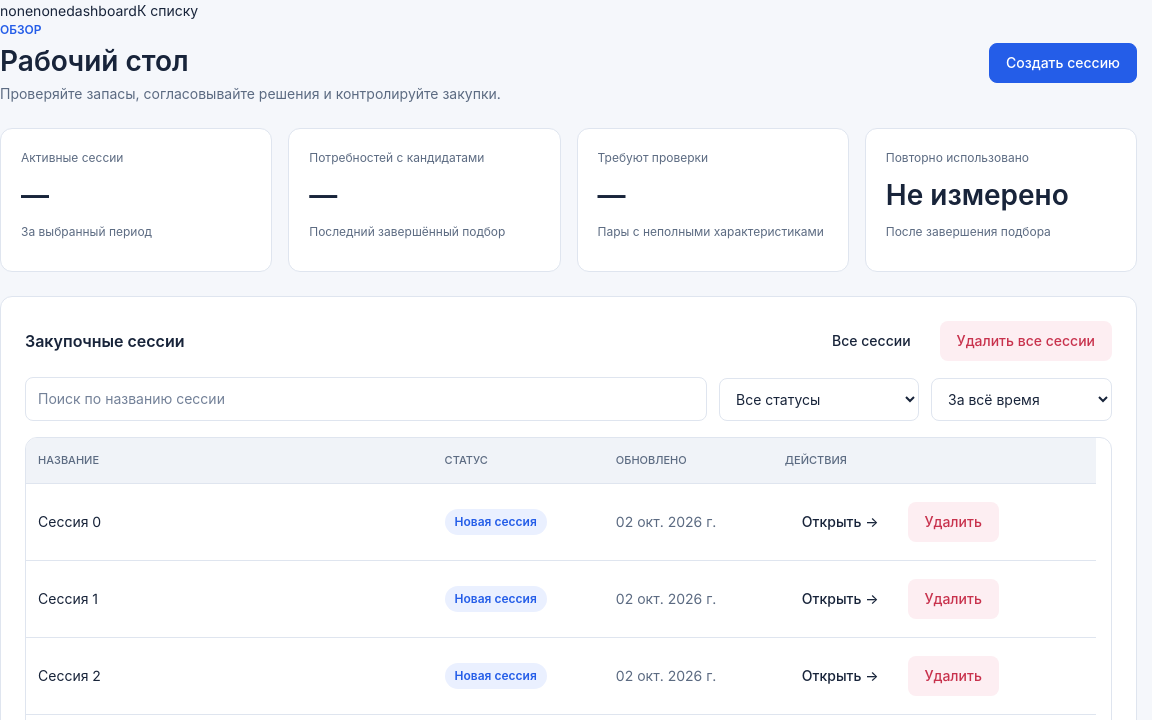
Test: session deletion › shows active-job errors in the dialog and leaves rows intact
What coordinates should you click on to do the following:
click the button with aria-label "Удалить сессию «Сессия 0»"
I would click on:
 (953, 522)
Its box is [908,502,999,542].
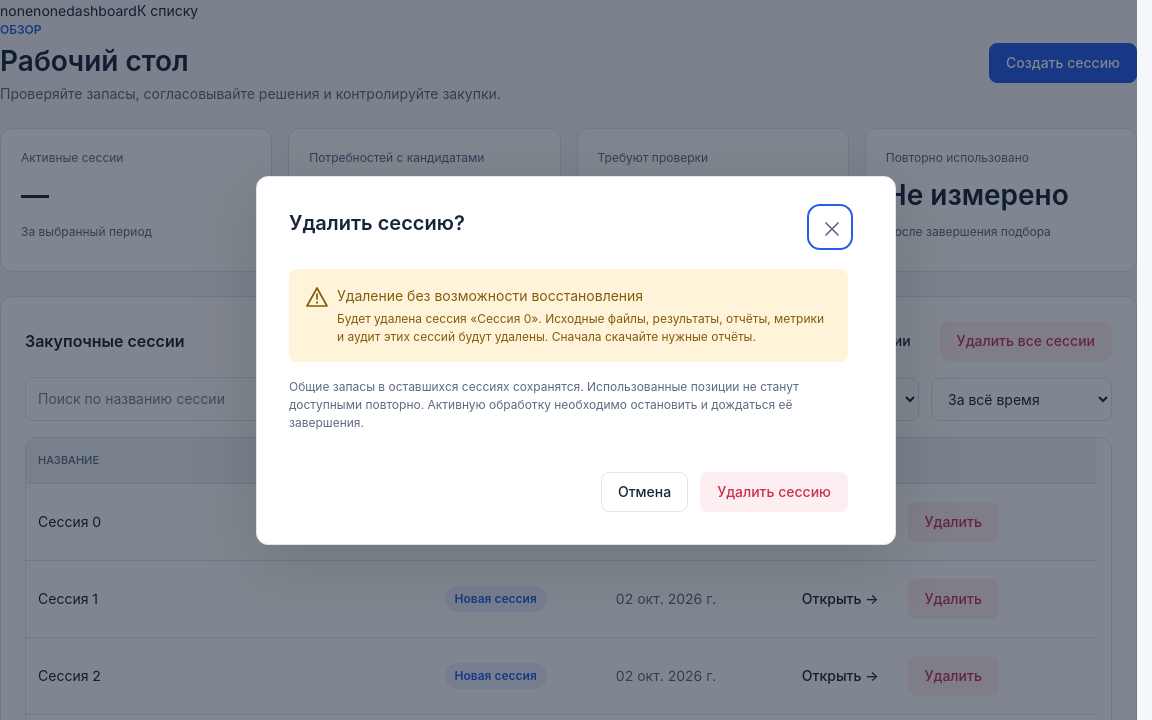
What coordinates should you click on to do the following:
click the button "Удалить сессию"
I would click on:
 (774, 492)
Its box is [700,472,848,512].
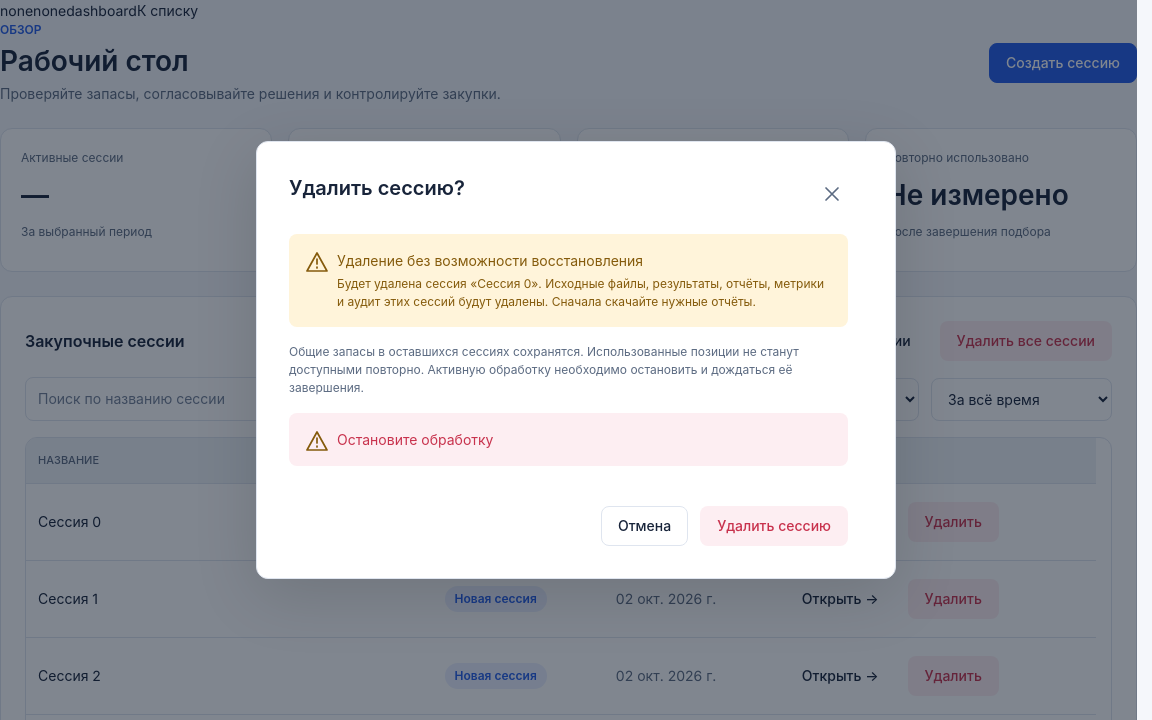
Check: the text "Сессия 0" is shown, box [26,483,433,560]
Check: the message "Остановите обработку" is shown, box [289,413,848,466]
